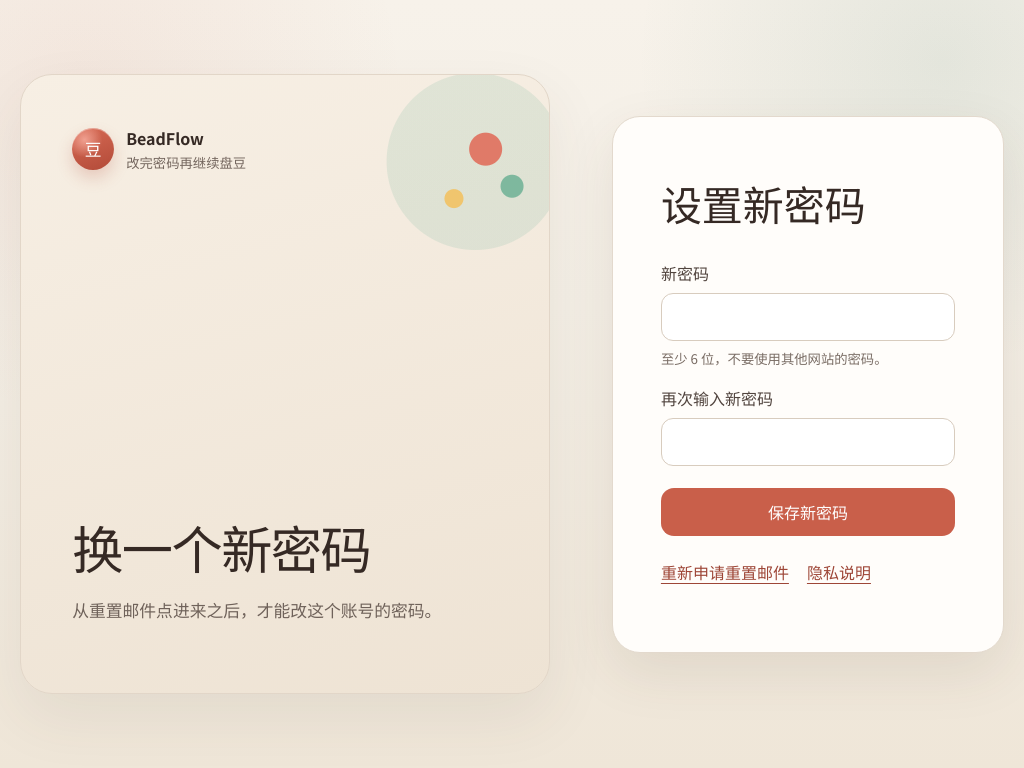
authenticated application shell › explains when a replacement password is the same as the old password
The width and height of the screenshot is (1024, 768).
Check: the heading "设置新密码" is shown, box x1=661 y1=172 x2=866 y2=232
Type "existing-password" into the password field labelled "新密码 至少 6 位，不要使用其他网站的密码。" at (808, 316), box x1=661 y1=292 x2=955 y2=340
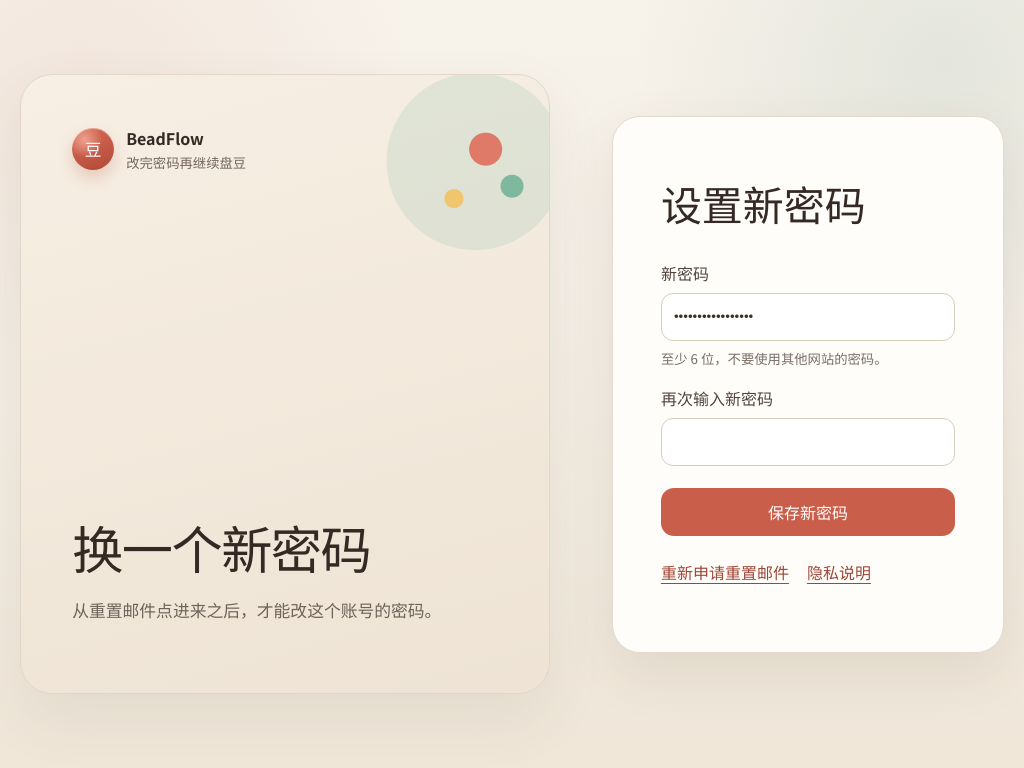
Type "existing-password" into the password field labelled "再次输入新密码" at (808, 442), box x1=661 y1=418 x2=955 y2=466
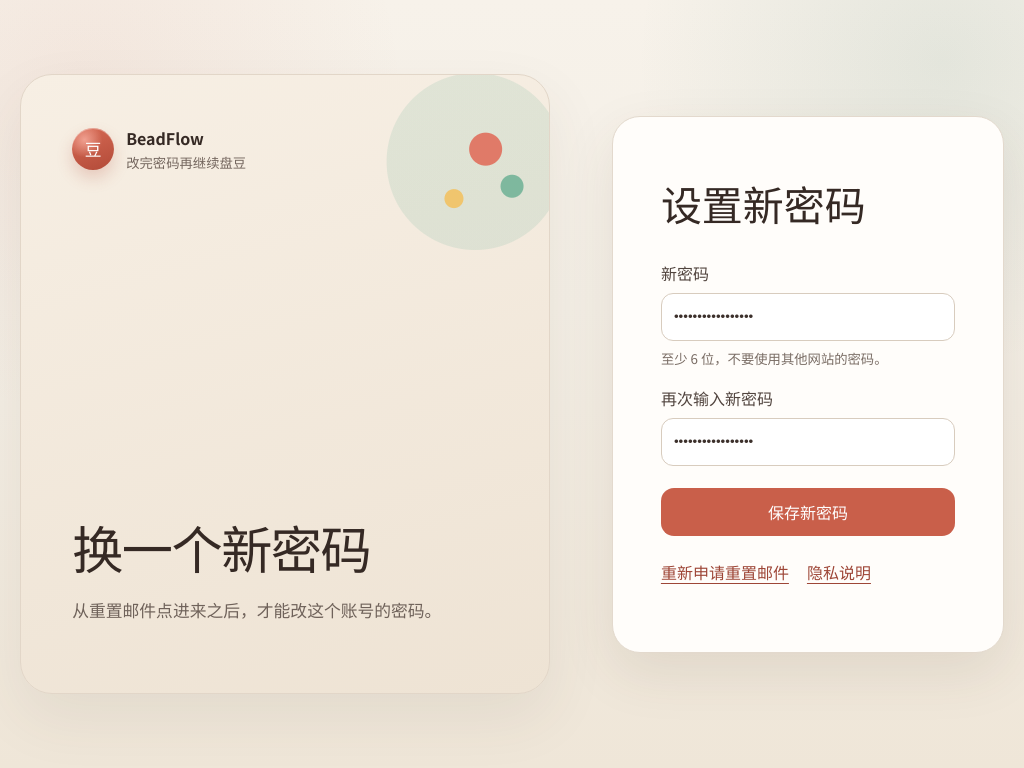
Click the button "保存新密码" at (808, 512), box x1=661 y1=488 x2=955 y2=536
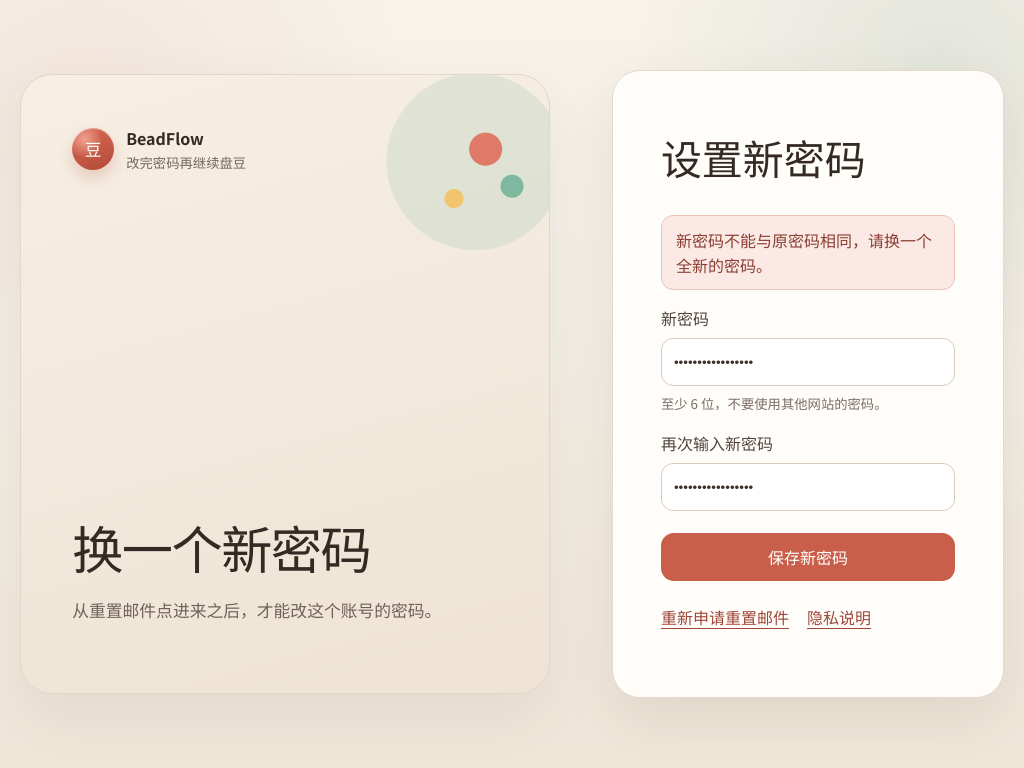
Check: the message shows "不能与原密码相同", box x1=676 y1=228 x2=932 y2=276
